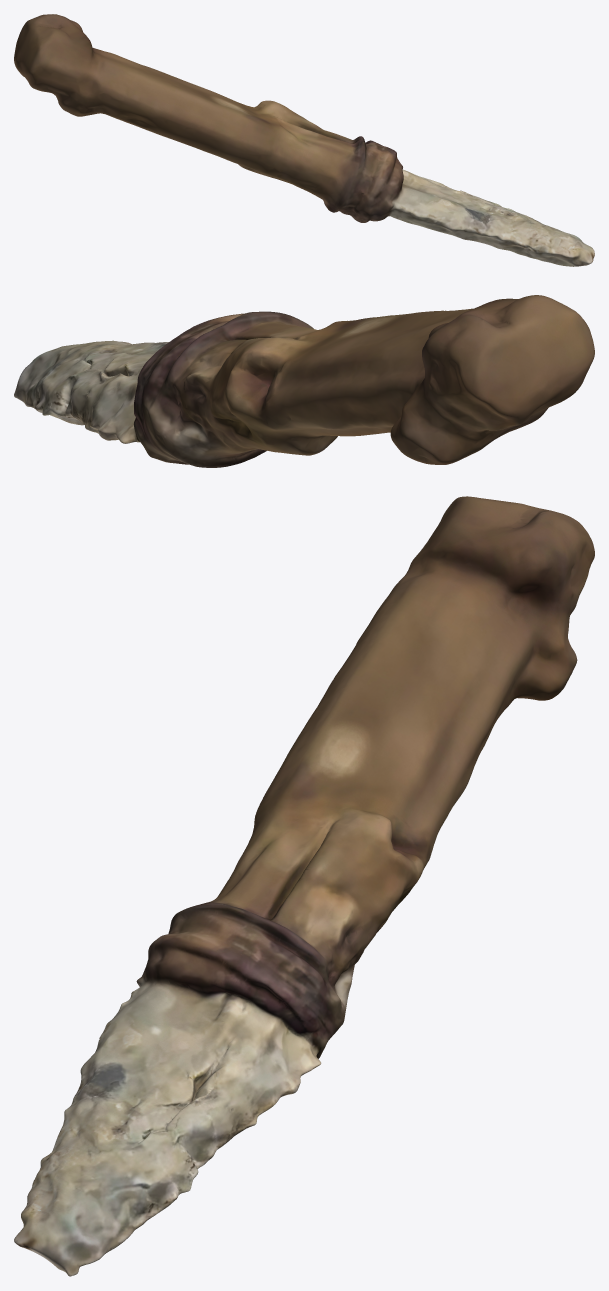
Rendered from dagger.glb.
3 views of the same model, one above another, from view 1: azimuth 30°, elevation 25°; view 2: azimuth 150°, elevation 25°; view 3: azimuth 270°, elevation 25° (orthographic). The views are drawn at different scales.
Visible parts, largest first — view 1: tripo_node_24859d45-8f5c-44c9-a2e5-d88397001e33; view 2: tripo_node_24859d45-8f5c-44c9-a2e5-d88397001e33; view 3: tripo_node_24859d45-8f5c-44c9-a2e5-d88397001e33.
Boxes of the visible parts, x1,y1,x2,y2 form: tripo_node_24859d45-8f5c-44c9-a2e5-d88397001e33: (14,14,594,266); tripo_node_24859d45-8f5c-44c9-a2e5-d88397001e33: (14,295,594,467); tripo_node_24859d45-8f5c-44c9-a2e5-d88397001e33: (14,496,594,1276).
Bounding box in the file's own units: 1 × 0.5262 × 0.6505.
1 material, 1 textured.
